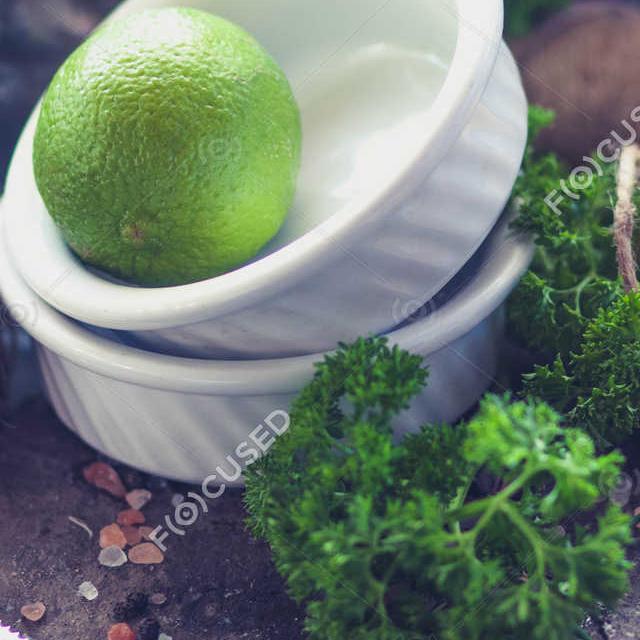lime: (21, 0, 324, 299)
